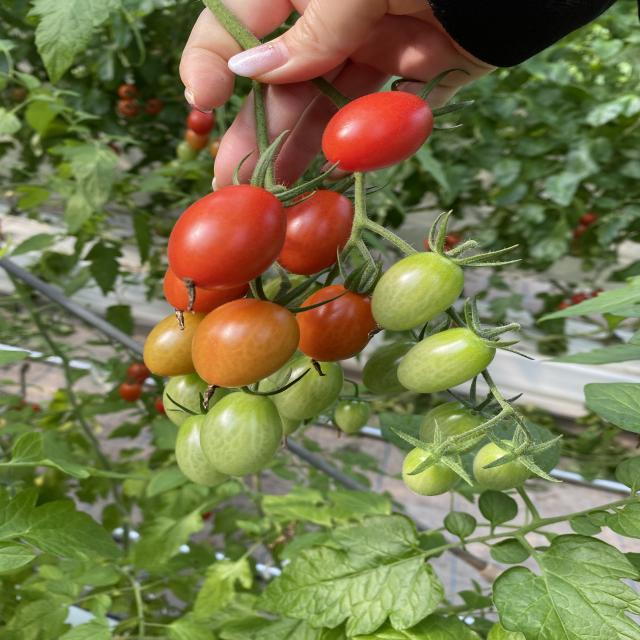c-half-riped: (191, 297, 302, 388), (143, 310, 207, 375)
c-riped: (167, 182, 288, 291), (319, 90, 434, 173), (276, 188, 356, 277), (296, 283, 377, 363), (163, 266, 260, 314)
c-unriped: (372, 252, 464, 331), (199, 391, 283, 477), (395, 326, 498, 392), (274, 355, 346, 420), (419, 399, 494, 457), (177, 414, 230, 486), (165, 372, 235, 426), (401, 441, 465, 496), (362, 339, 423, 396), (474, 439, 535, 491), (254, 274, 325, 315), (334, 395, 371, 434)
